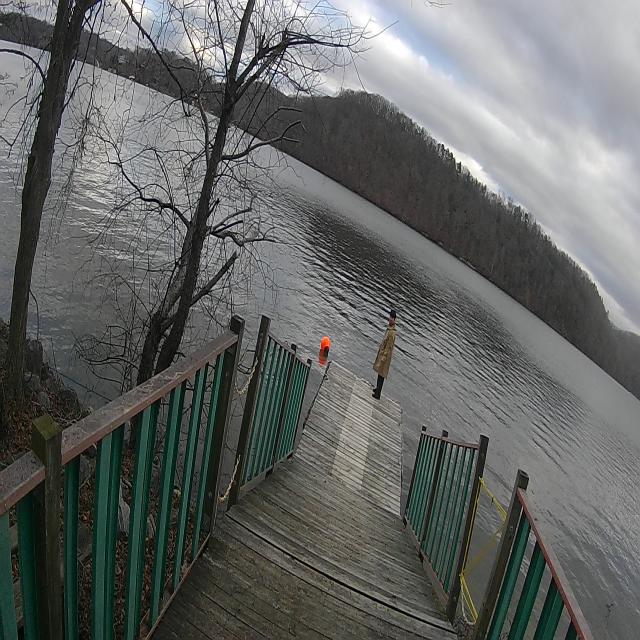Buoy: (319, 332, 333, 359)
